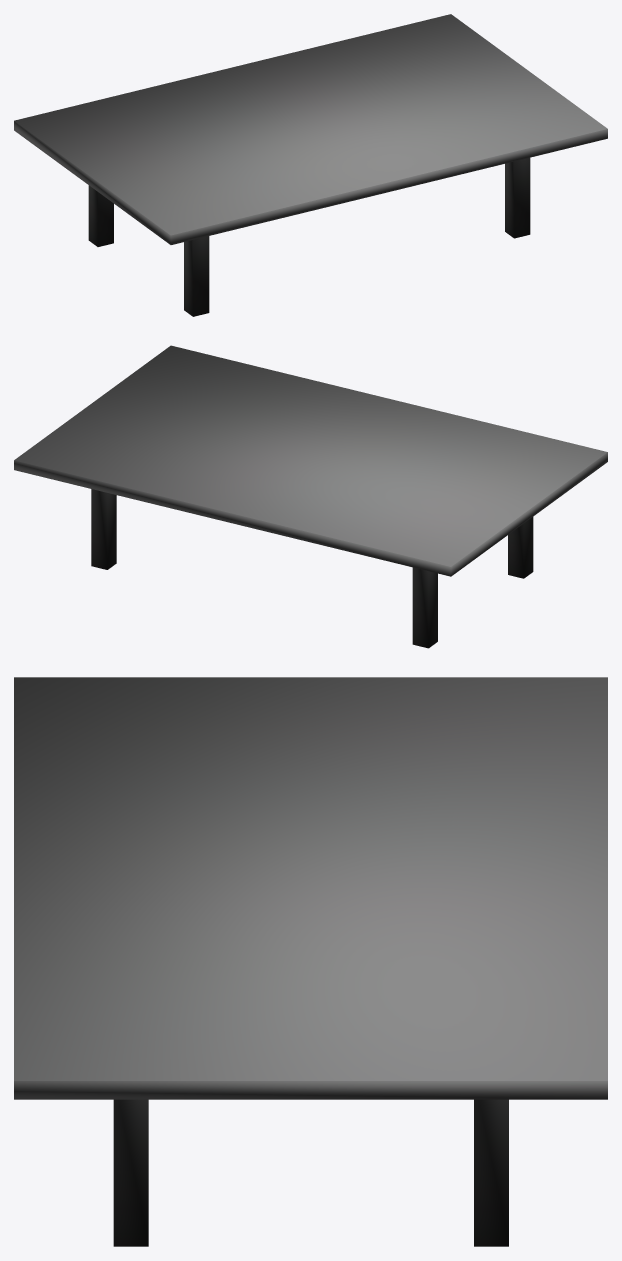
File: MesaLab.fbx
3 views of the same model, one above another, from view 1: azimuth 30°, elevation 25°; view 2: azimuth 150°, elevation 25°; view 3: azimuth 270°, elevation 25° (orthographic). The views are drawn at different scales.
Parts seen in each view (by area): view 1: MesaComputadores; view 2: MesaComputadores; view 3: MesaComputadores.
Part boxes in pixels (x1,y1,x2,y2): MesaComputadores: (14, 14, 607, 316); MesaComputadores: (14, 345, 607, 648); MesaComputadores: (14, 677, 607, 1246).
Size of the model in its own units: 214 by 52.55 by 133.
